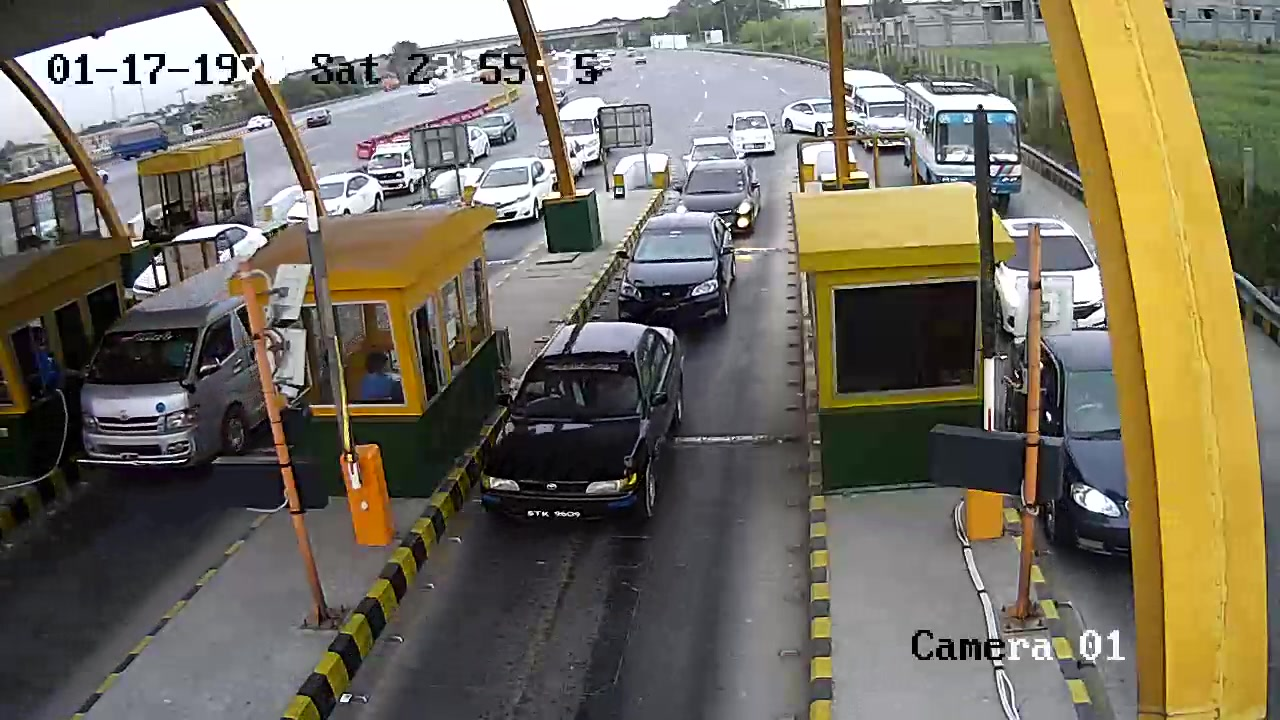F1: (480, 321, 681, 563)
